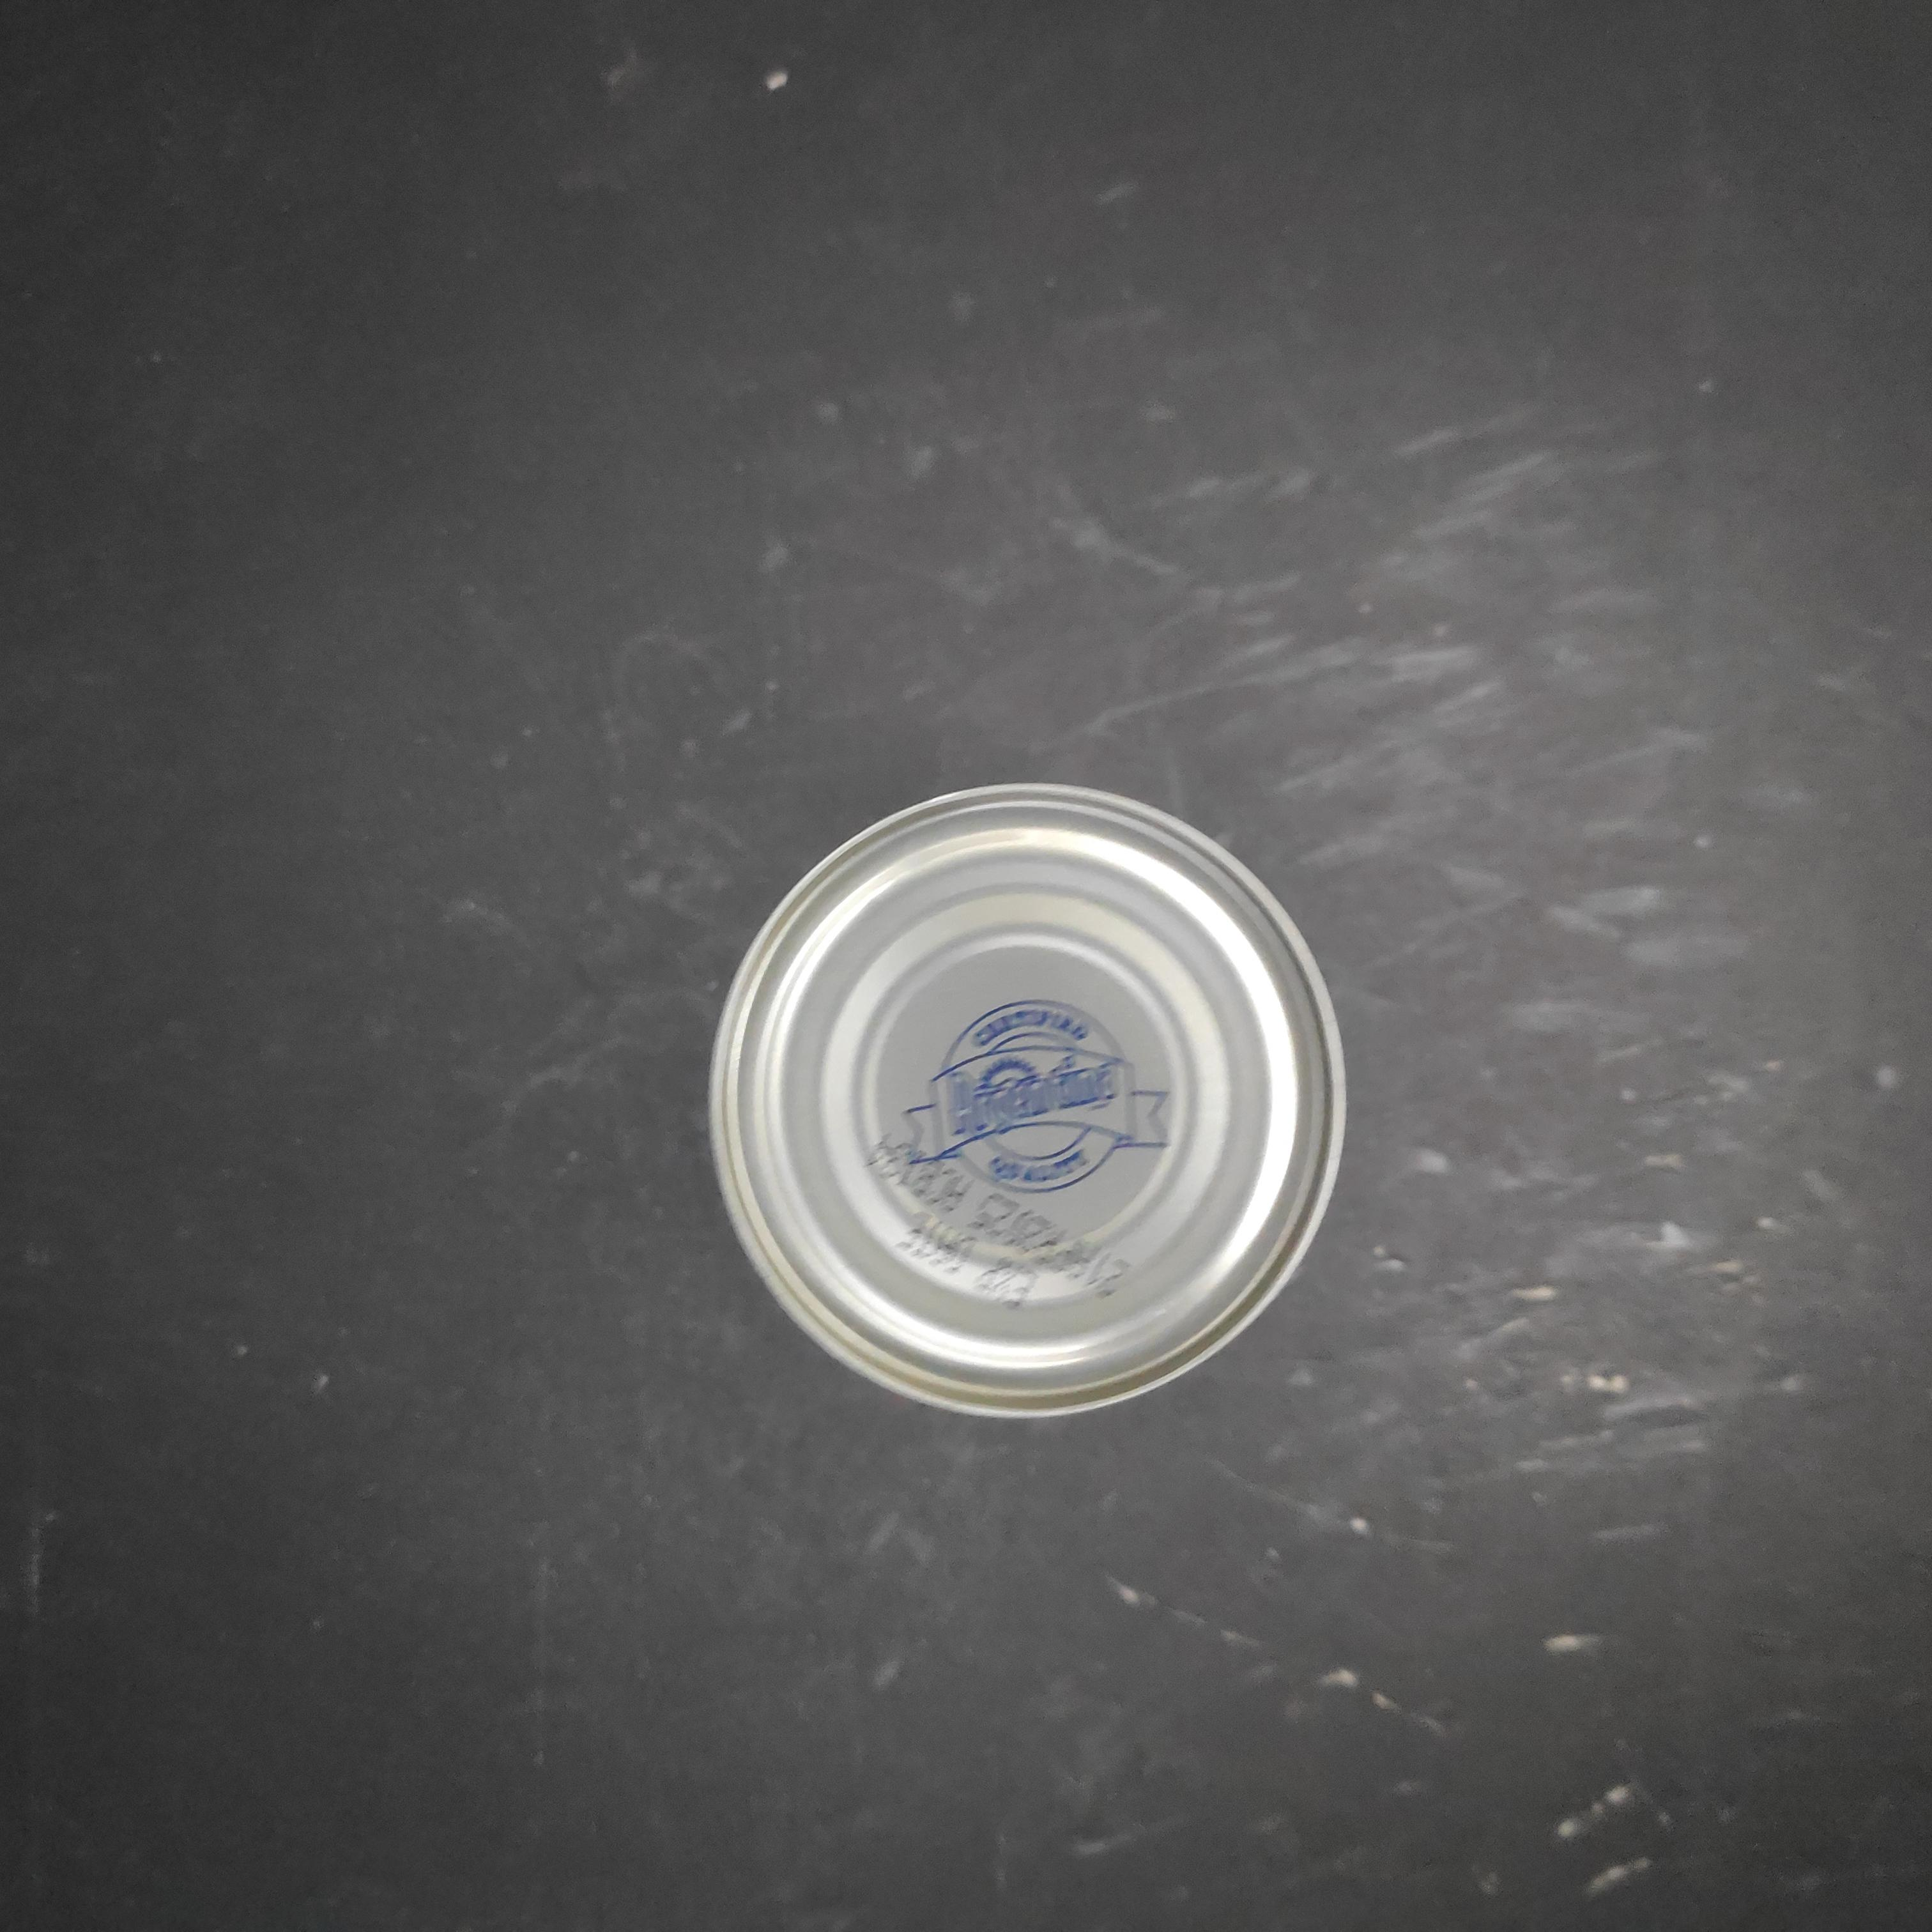No defect: (701, 777, 1359, 1431)
